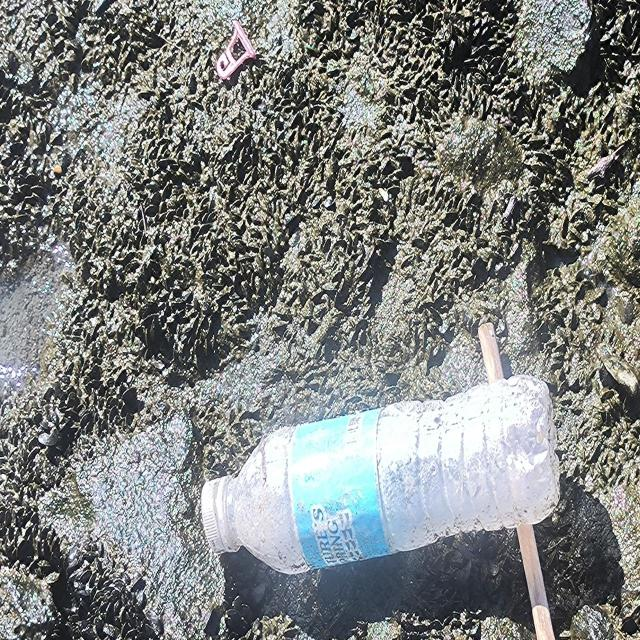plastic_waste: (200, 372, 563, 578)
